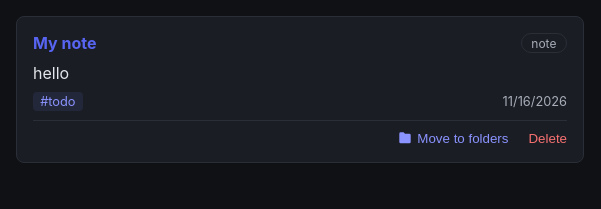
Scenario: deleting › brings the card back with an error if deleting really failed
Click the button "Delete" at (548, 138), box [528,131,567,146]
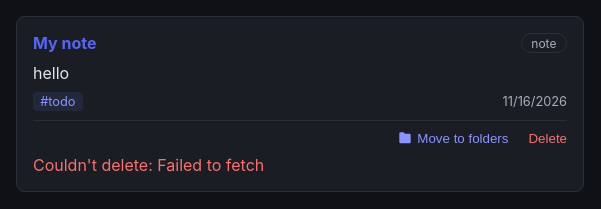
Expected: the text "My note" is shown, [33,33,96,53]
Result: the text "Couldn't delete: Failed to fetch" is shown at [33,155,264,175]
